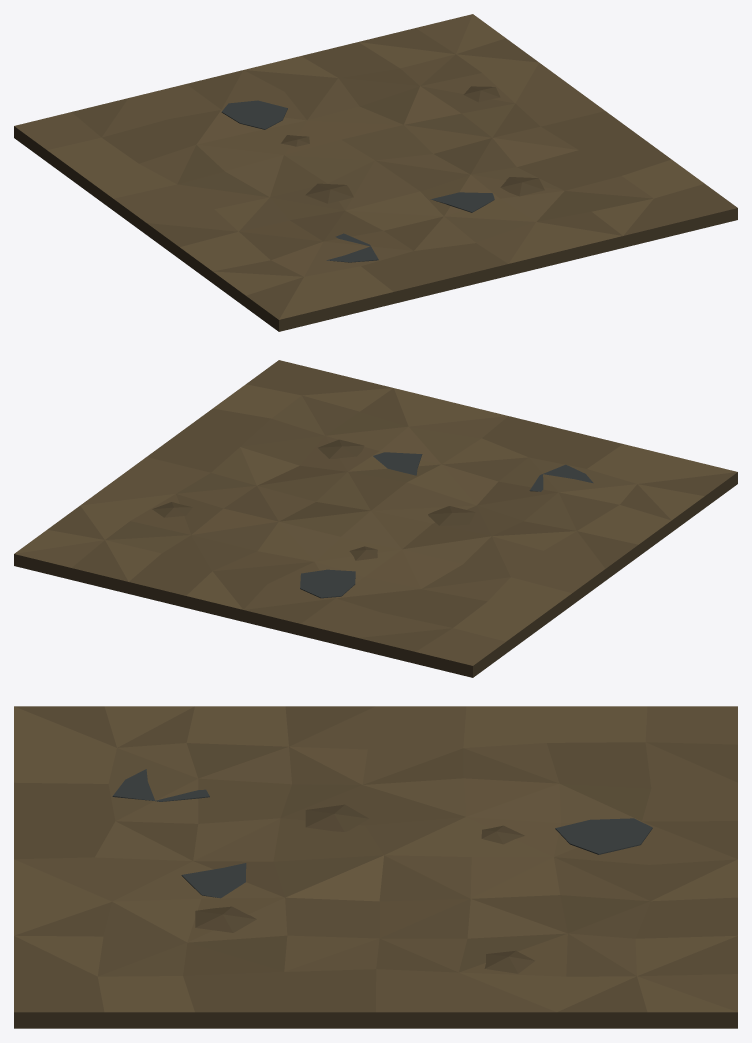
The model's file is ground_mud_a.glb.
3 views of the same model, one above another, from view 1: azimuth 30°, elevation 25°; view 2: azimuth 150°, elevation 25°; view 3: azimuth 270°, elevation 25° (orthographic). The views are drawn at different scales.
Parts seen in each view (by area): view 1: ground_mud_a; view 2: ground_mud_a; view 3: ground_mud_a.
Part boxes in pixels (x1,y1,x2,y2): ground_mud_a: [14, 14, 737, 331]; ground_mud_a: [14, 360, 737, 677]; ground_mud_a: [14, 706, 737, 1028].
Bounding box in the file's own units: 4 × 0.1325 × 4.
